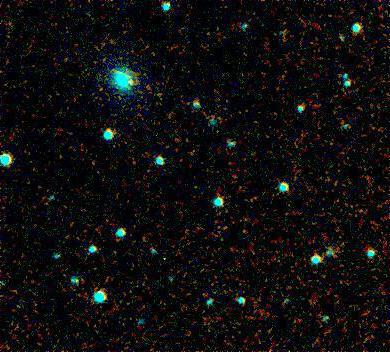star: (87, 76, 117, 106)
